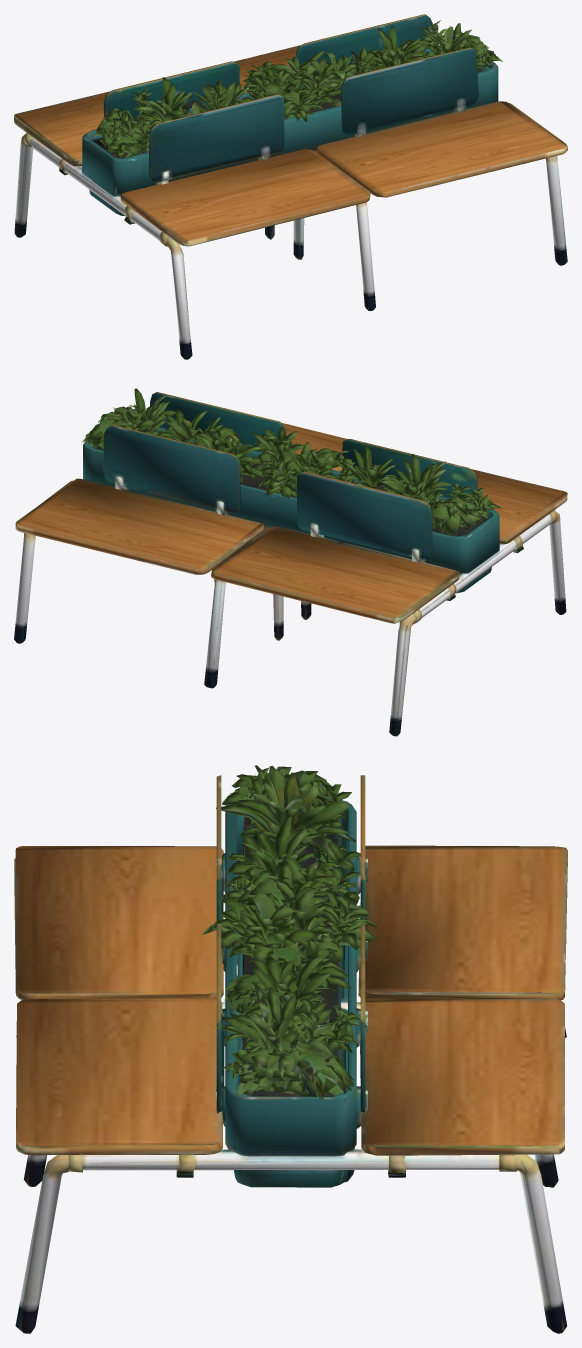
Rendered from workstation.glb.
3 renders of one model, top to bottom at view 1: azimuth 30°, elevation 25°; view 2: azimuth 150°, elevation 25°; view 3: azimuth 270°, elevation 25°, orthographic. The views are drawn at different scales.
Visible parts, largest first — view 1: prop; view 2: prop; view 3: prop.
Boxes of the visible parts, x1,y1,x2,y2 form: prop: (14,14,567,359); prop: (14,388,567,736); prop: (14,765,567,1333).
Bounding box in the file's own units: 3.2 × 1.51 × 2.44.
Materials: 1 (1 with a texture image).
